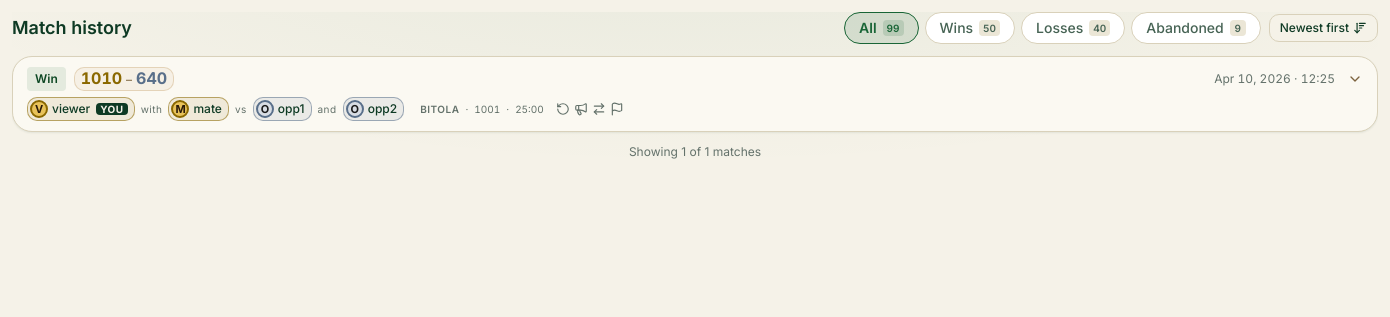
Test: MatchHistory › toggles detail view on row click with correct aria state
Click the button named "Show hand details".
click(1355, 79)  # box left=1343, top=67, right=1367, bottom=91
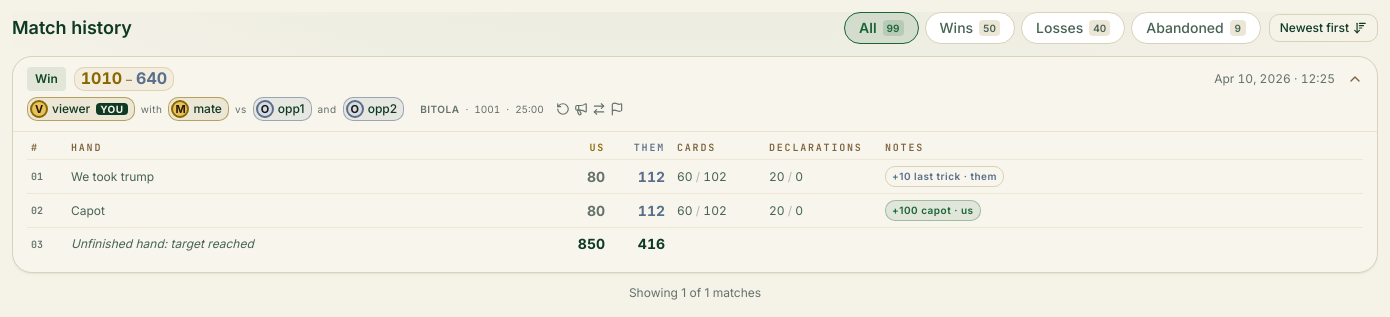
Expected: the button named "Show hand details" is expanded
Expected: the element with test id "match-history-detail" is shown, left=13, top=131, right=1377, bottom=272
Expected: the number of elements with test id "match-history-hand-row" is 2, left=27, top=160, right=1363, bottom=194; left=27, top=194, right=1363, bottom=228
Click the button named "Show hand details".
click(1355, 79)  # box left=1343, top=67, right=1367, bottom=91
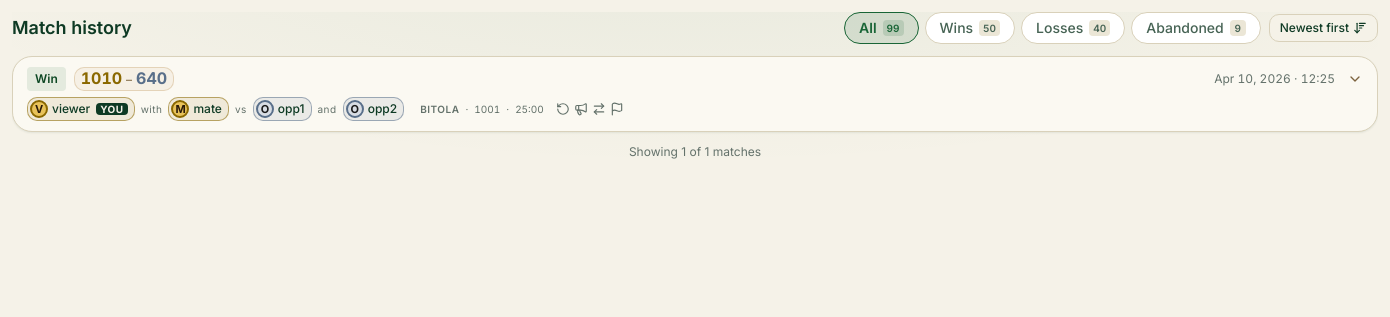
Expected: the button named "Show hand details" is collapsed, left=1343, top=67, right=1367, bottom=91
Expected: the element with test id "match-history-detail" is gone
